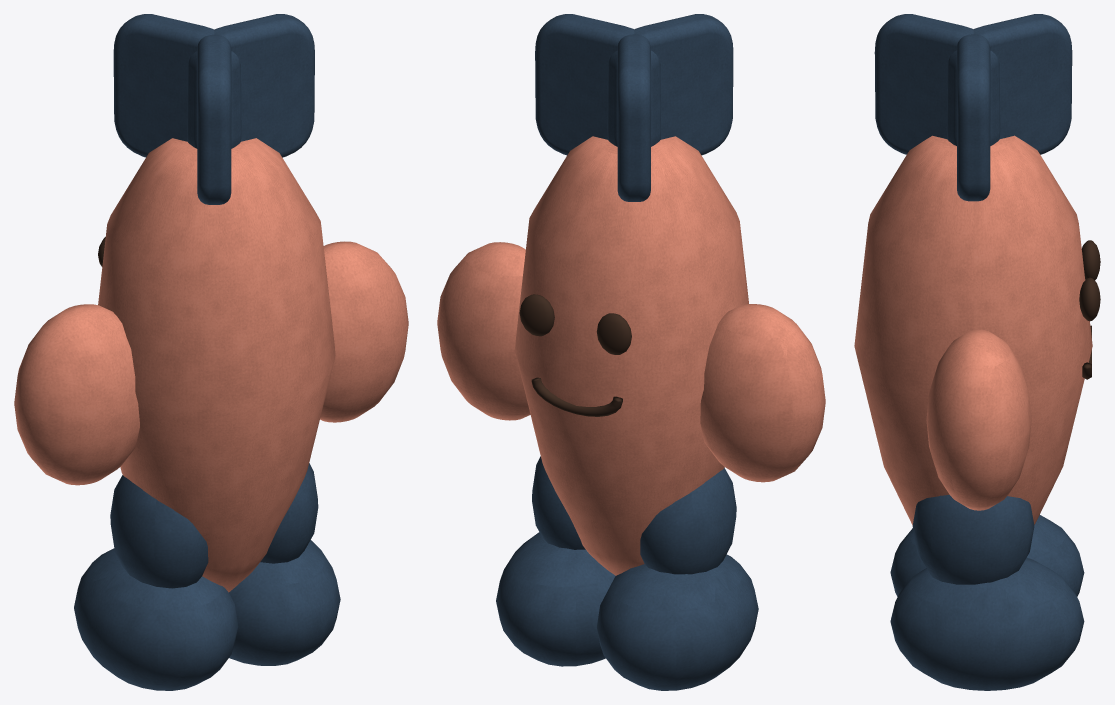
The model's file is plush_dart.glb.
3 views of the same model, side by side, from view 1: azimuth 30°, elevation 25°; view 2: azimuth 150°, elevation 25°; view 3: azimuth 270°, elevation 25° (orthographic).
Parts seen in each view (by area): view 1: Body, ArmLeft, FootLeft, ArmRight, TailVane1, TailVane2, FootRight, LegLeft, TailVane3, LegRight; view 2: Body, ArmLeft, FootLeft, ArmRight, FootRight, TailVane3, TailVane1, LegLeft, TailVane2, LegRight, Eyes, Smile; view 3: Body, FootRight, ArmRight, TailVane3, TailVane2, LegRight, TailVane1, FootLeft, Eyes.
Boxes of the visible parts, bbox=[...] form: Body: bbox=[98, 138, 335, 592]; ArmLeft: bbox=[14, 304, 139, 485]; FootLeft: bbox=[74, 548, 238, 690]; ArmRight: bbox=[320, 241, 408, 422]; TailVane1: bbox=[187, 14, 314, 157]; TailVane2: bbox=[113, 14, 241, 157]; FootRight: bbox=[229, 540, 340, 665]; LegLeft: bbox=[110, 475, 208, 588]; TailVane3: bbox=[197, 34, 231, 204]; LegRight: bbox=[260, 463, 318, 563]; Body: bbox=[515, 136, 748, 575]; ArmLeft: bbox=[700, 304, 825, 482]; FootLeft: bbox=[597, 554, 758, 690]; ArmRight: bbox=[437, 242, 530, 420]; FootRight: bbox=[496, 532, 615, 666]; TailVane3: bbox=[607, 14, 733, 155]; TailVane1: bbox=[535, 14, 660, 155]; LegLeft: bbox=[640, 468, 736, 574]; TailVane2: bbox=[617, 34, 650, 201]; LegRight: bbox=[532, 456, 585, 549]; Eyes: bbox=[519, 294, 631, 354]; Smile: bbox=[531, 377, 622, 416]; Body: bbox=[854, 135, 1092, 524]; FootRight: bbox=[890, 558, 1084, 690]; ArmRight: bbox=[926, 329, 1031, 510]; TailVane3: bbox=[874, 14, 1000, 154]; TailVane2: bbox=[946, 14, 1072, 154]; LegRight: bbox=[912, 494, 1034, 584]; TailVane1: bbox=[957, 34, 990, 201]; FootLeft: bbox=[890, 515, 1084, 596]; Eyes: bbox=[1079, 240, 1100, 321].
Bounding box in the file's own units: 0.157 × 0.25 × 0.0889.
Materials: 3 (3 with a texture image).
